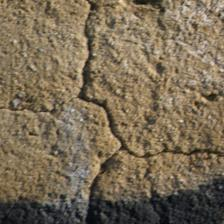Crack: (7, 26, 119, 99), (59, 127, 137, 153), (87, 63, 134, 102)
